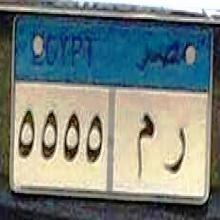5: (83, 106, 106, 170), (61, 100, 82, 170), (39, 106, 59, 168), (17, 107, 37, 164)
meem: (132, 104, 156, 184)
raa: (162, 118, 187, 180)
